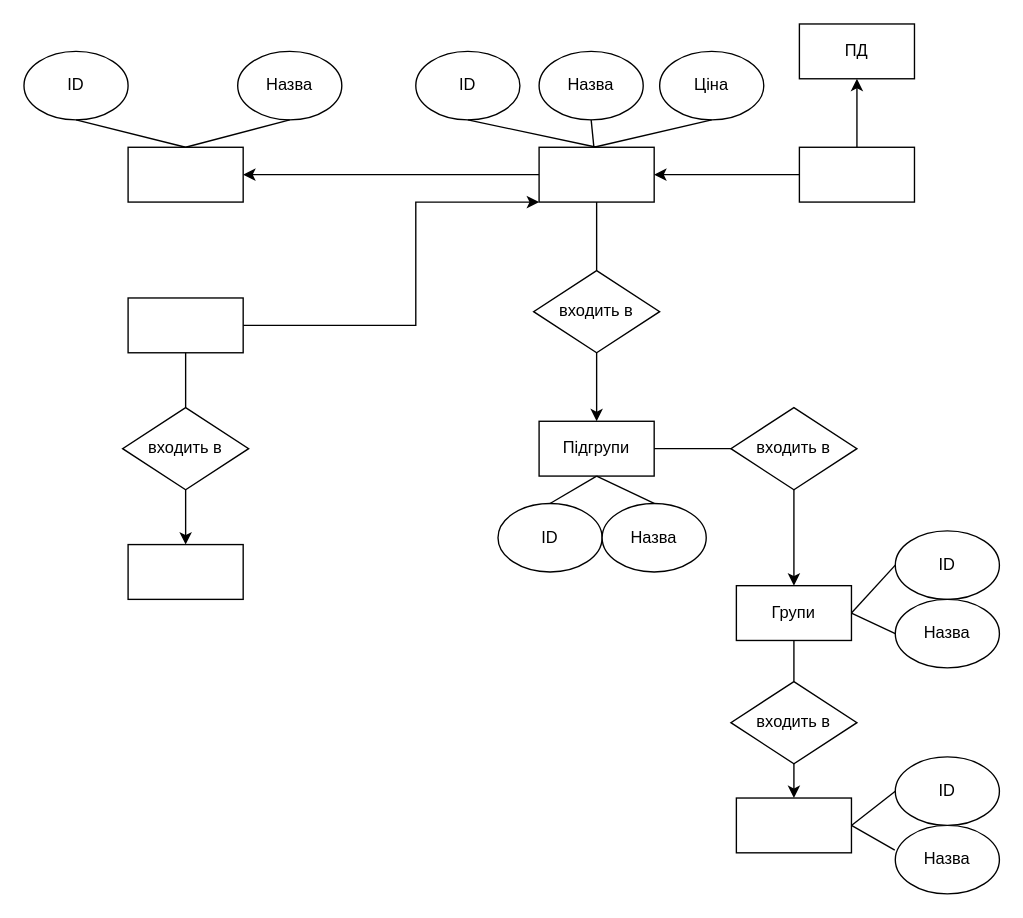
This 1023x918 diagram has some shape labels left out. The centre of each missing label's shape, as x and y in pixels:
"Деталі" belongs at [596,174].
"Залишок" belongs at [185,325].
"Марки" belongs at [793,825].
"Одиниці виміру" belongs at [185,174].
"Рядок ПД" belongs at [856,174].
"Склади" belongs at [185,571].
